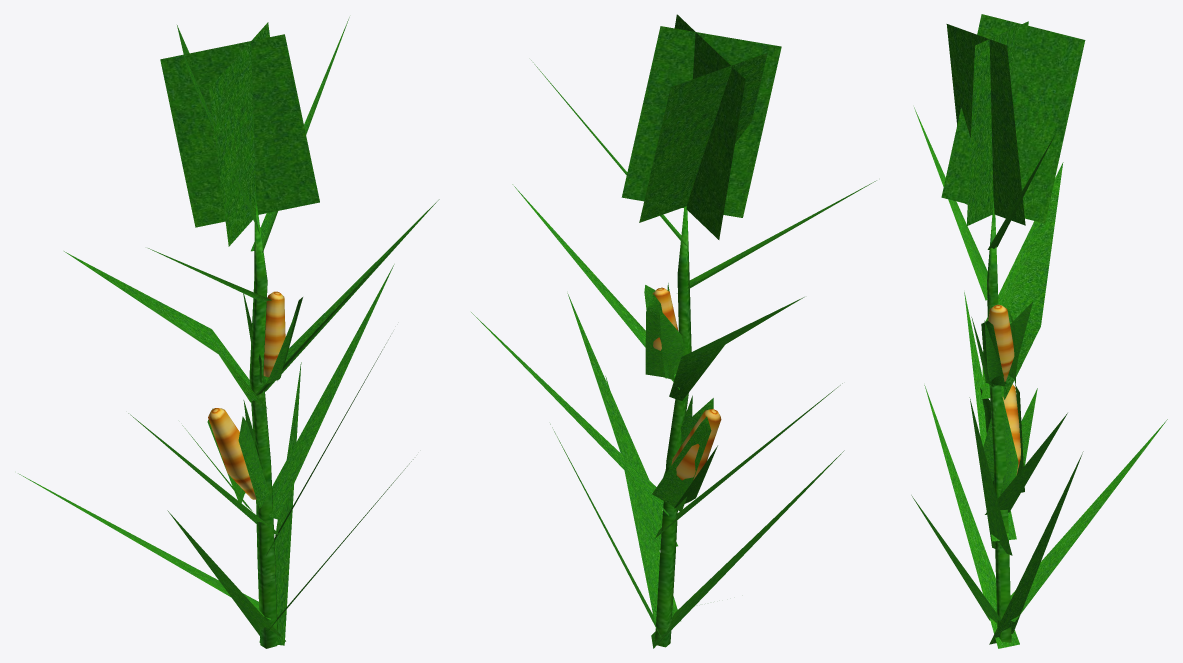
File: Corn_lod2.obj
The picture shows the model from 3 angles, left to right: view 1: azimuth 30°, elevation 25°; view 2: azimuth 150°, elevation 25°; view 3: azimuth 270°, elevation 25°; orthographic projection. The views are drawn at different scales.
Visible parts, largest first — view 1: Default_Layer; view 2: Default_Layer; view 3: Default_Layer.
Part boxes in pixels (box(x1,y1,x2,y2)): Default_Layer: box(18, 17, 439, 648); Default_Layer: box(471, 14, 876, 648); Default_Layer: box(911, 14, 1167, 648).
Size of the model in its own units: 3566 by 6265 by 2453.
Materials: 2 (2 with a texture image).
